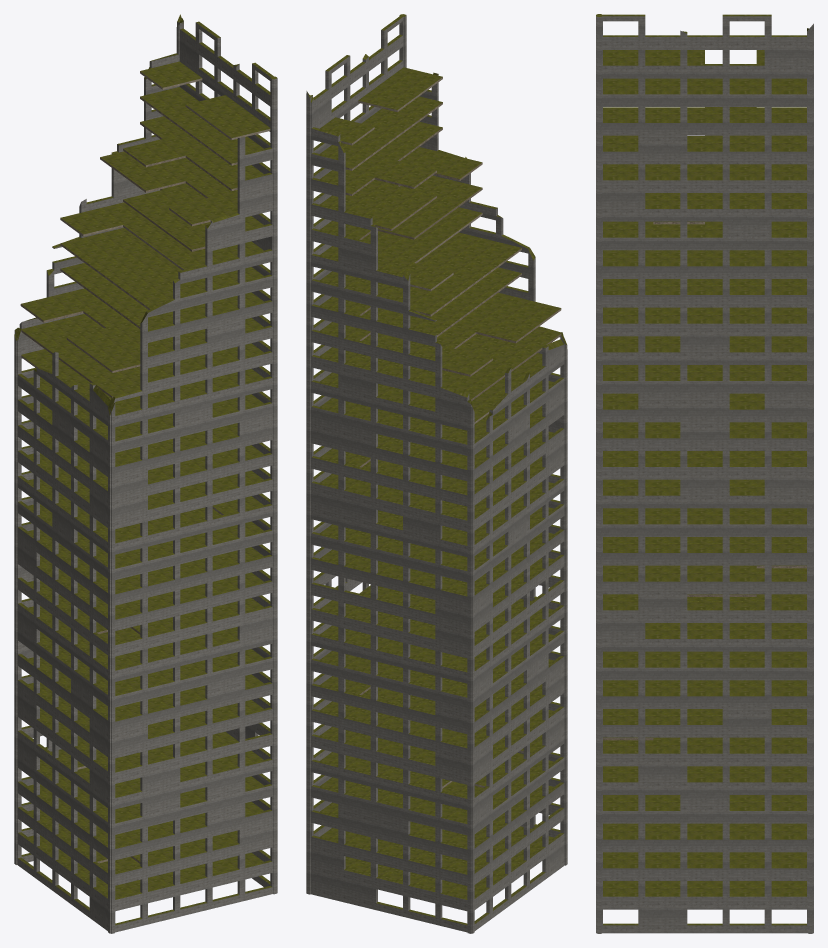
Rendered from tower_a.gltf.
3 renders of one model, left to right at view 1: azimuth 30°, elevation 25°; view 2: azimuth 150°, elevation 25°; view 3: azimuth 270°, elevation 25°, orthographic. The views are drawn at different scales.
Visible parts, largest first — view 1: tower_a; view 2: tower_a; view 3: tower_a.
Boxes of the visible parts, x1,y1,x2,y2 form: tower_a: [14, 14, 277, 933]; tower_a: [306, 14, 567, 933]; tower_a: [596, 14, 813, 933].
Bounding box in the file's own units: 24.8 × 115 × 24.8.
